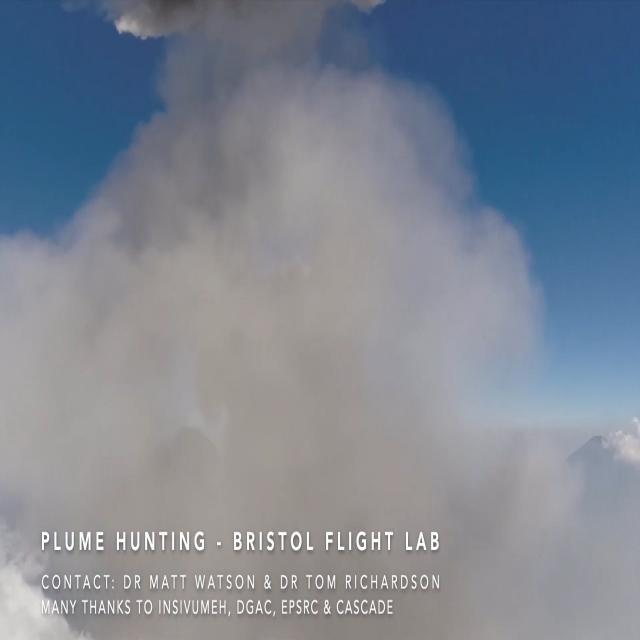Plume: (0, 64, 574, 640), (30, 0, 436, 46)
